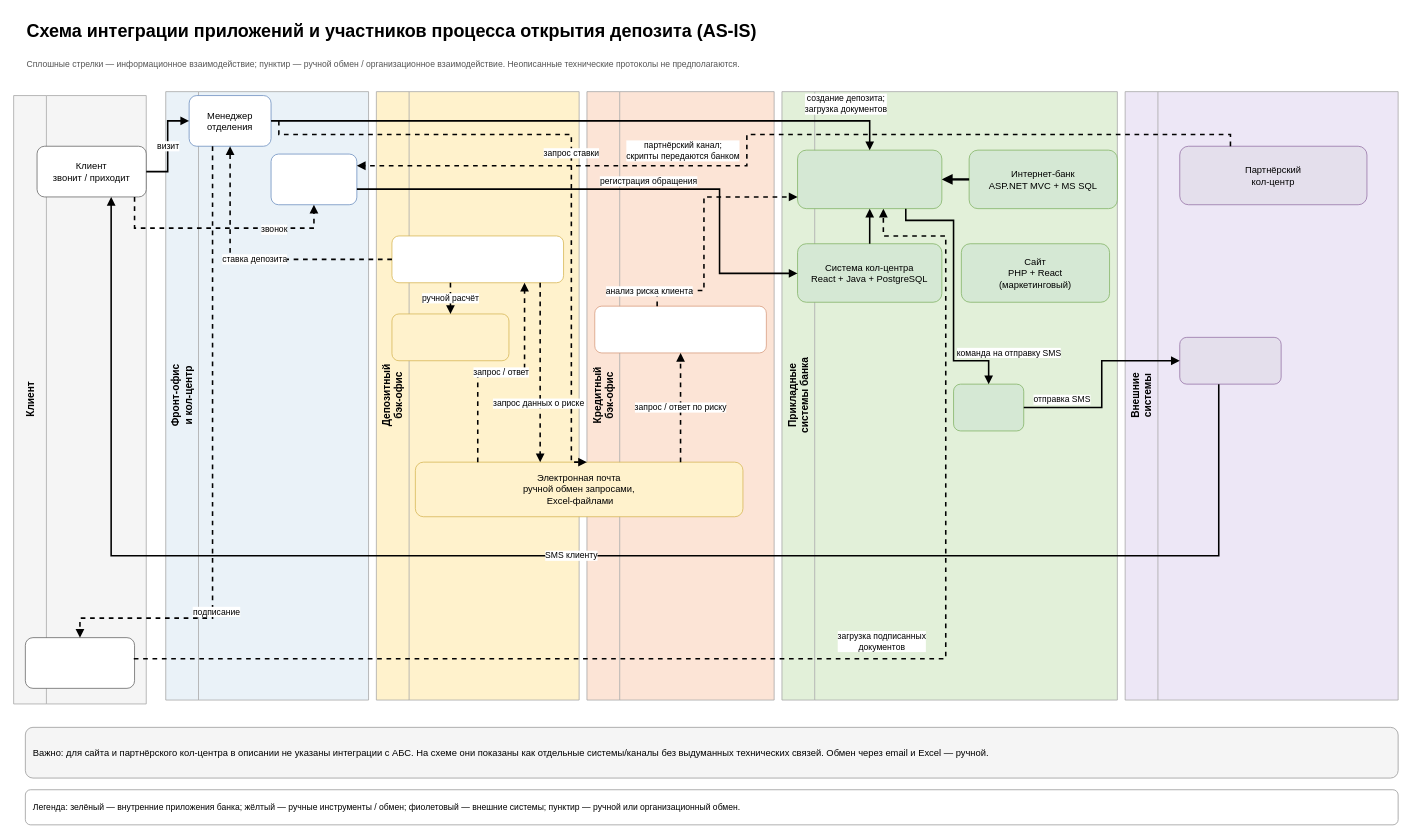
Image size: 1412x838. Some labels were removed from this diagram. The shapes that lost their labels are listed below. From the top down, each one's centre as x and y in pixels, then its label:
At point 313,179: "Оператор кол-центра".
At point 869,179: "АБС Delphi + Oracle / PL-SQL".
At point 477,259: "Менеджер депозитов".
At point 450,337: "Excel расчёт ставки".
At point 680,329: "Менеджер кредитов".
At point 1230,360: "Телеком- оператор".
At point 988,407: "СМС-шлюз".
At point 80,662: "Подписанные документы".
